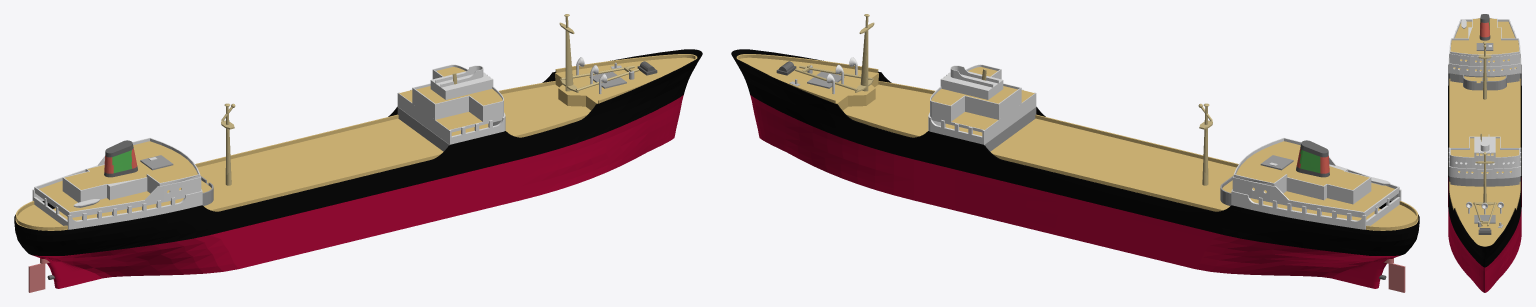
File: ship.fbx
The picture shows the model from 3 angles, left to right: view 1: azimuth 30°, elevation 25°; view 2: azimuth 150°, elevation 25°; view 3: azimuth 270°, elevation 25°; orthographic projection. The views are drawn at different scales.
Parts seen in each view (by area): view 1: Hull, Deck, lijn14, Floor leve, Afterstruc, Upper par0, Super05, Upper part, Super06, Deck01, Loft01, Shape02 (+5 smaller); view 2: Hull, Deck, lijn14, Floor leve, Afterstruc, Upper par0, Super05, Upper part, Super06, Deck01, Loft01, Shape02 (+6 smaller); view 3: Deck, Hull, Floor leve, Super05, Upper part, Super06, Afterstruc, Super08, Shape02, Deck01, Circle07, Upper par0 (+12 smaller).
Boxes of the visible parts, x1,y1,x2,y2 form: Hull: (14, 49, 702, 288); Deck: (15, 57, 694, 230); lijn14: (195, 81, 588, 211); Floor leve: (64, 141, 197, 189); Afterstruc: (32, 189, 202, 229); Upper par0: (62, 138, 200, 202); Super05: (412, 64, 503, 121); Upper part: (34, 156, 201, 217); Super06: (397, 89, 505, 144); Deck01: (39, 180, 181, 211); Loft01: (104, 140, 137, 177); Shape02: (416, 67, 502, 105); Hull: (731, 49, 1419, 288); Deck: (739, 57, 1418, 230); lijn14: (845, 81, 1238, 211); Floor leve: (1236, 141, 1369, 189); Afterstruc: (1231, 189, 1401, 229); Upper par0: (1233, 138, 1371, 204); Super05: (930, 64, 1021, 121); Upper part: (1232, 156, 1399, 217); Super06: (928, 89, 1036, 144); Deck01: (1252, 183, 1394, 211); Loft01: (1296, 140, 1329, 177); Shape02: (931, 67, 1017, 105); Deck: (1450, 67, 1519, 246); Hull: (1448, 65, 1521, 292); Floor leve: (1450, 19, 1519, 54); Super05: (1449, 136, 1519, 168); Upper part: (1449, 19, 1520, 66); Super06: (1448, 147, 1521, 178); Afterstruc: (1448, 25, 1521, 76); Super08: (1449, 176, 1520, 186); Shape02: (1450, 138, 1519, 157); Deck01: (1455, 21, 1514, 62); Circle07: (1463, 74, 1506, 90); Upper par0: (1450, 18, 1519, 56).
Size of the model in its own units: 261 by 54.32 by 35.04.
